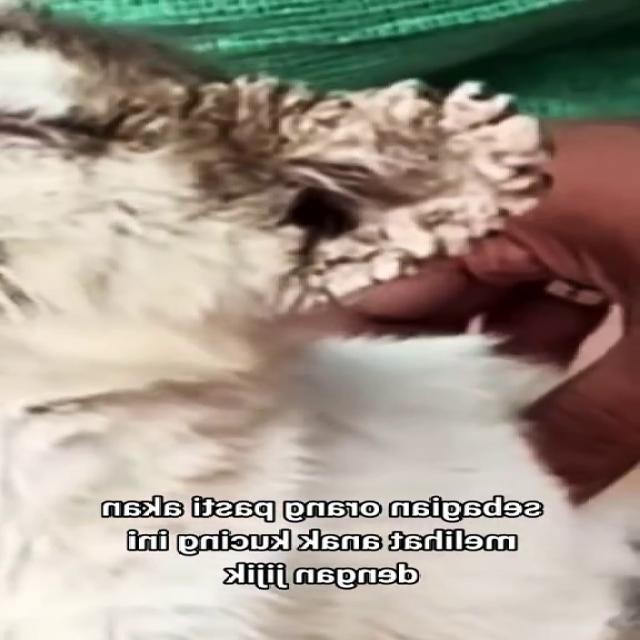ghe: (148, 82, 518, 310)
